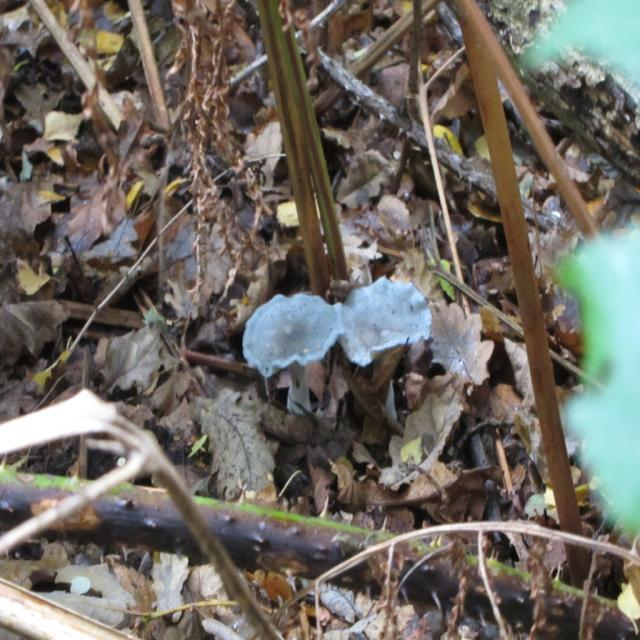Mushroom: (335, 276, 433, 418)
